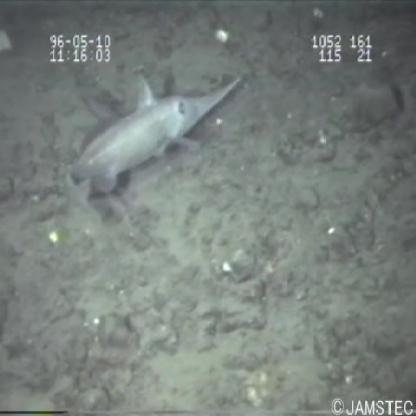Bio: (48, 64, 246, 232)
